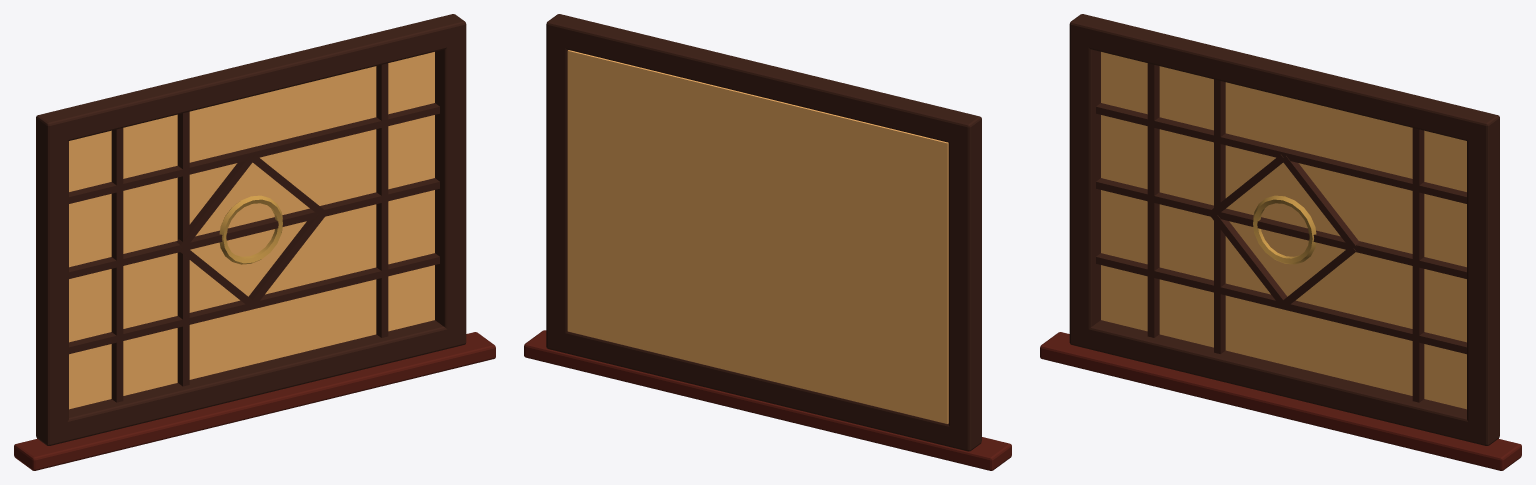
The model's file is window.glb.
3 renders of one model, left to right at view 1: azimuth 30°, elevation 25°; view 2: azimuth 150°, elevation 25°; view 3: azimuth 330°, elevation 25°, orthographic.
Parts seen in each view (by area): view 1: window; view 2: window; view 3: window.
Boxes of the visible parts, bbox=[...] form: window: bbox=[14, 14, 495, 470]; window: bbox=[524, 14, 1011, 470]; window: bbox=[1040, 14, 1521, 470].
Bounding box in the file's own units: 2.1 × 1.46 × 0.16.
